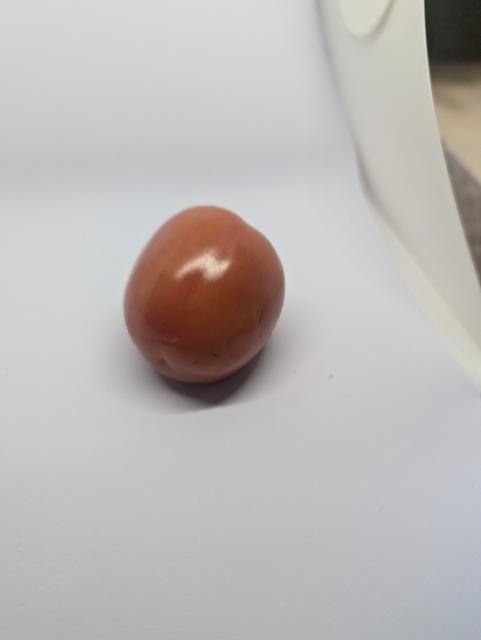red: (106, 194, 310, 400)
